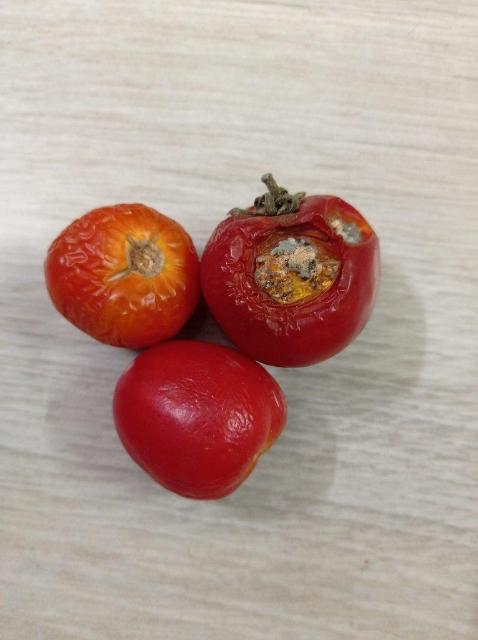defect: (200, 170, 385, 368), (36, 197, 202, 355)
